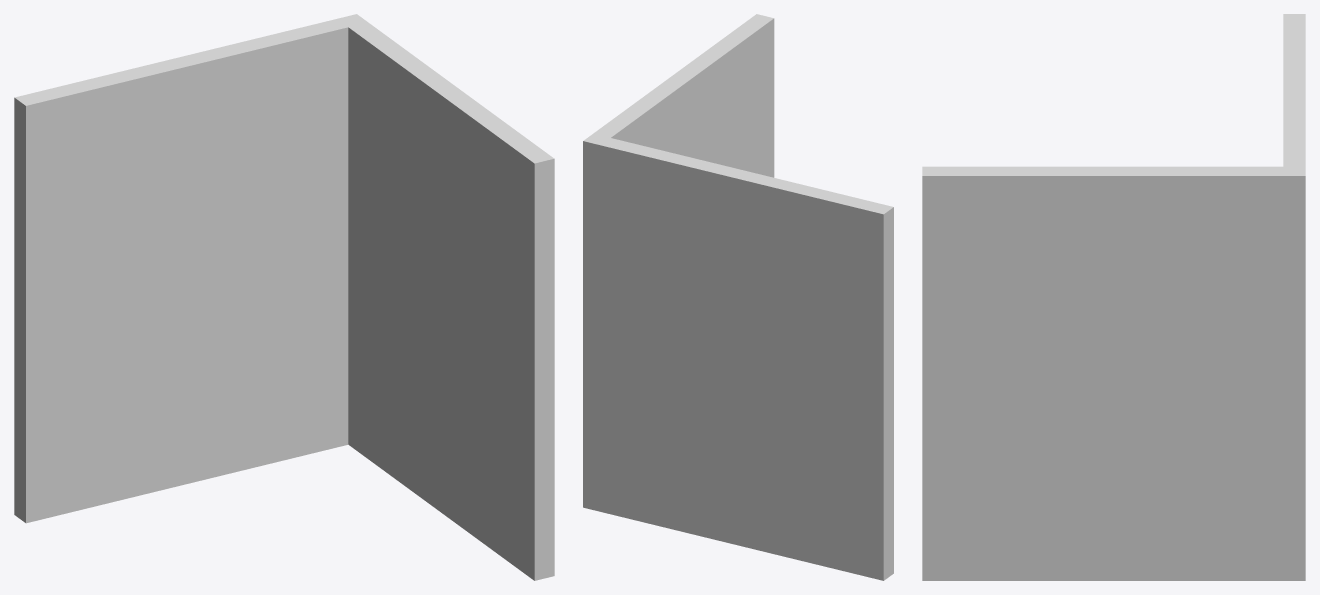
File: Wall1_C1_06.fbx
3 renders of one model, left to right at view 1: azimuth 30°, elevation 25°; view 2: azimuth 150°, elevation 25°; view 3: azimuth 270°, elevation 25°, orthographic. The views are drawn at different scales.
Visible parts, largest first — view 1: Wall1_C1_06; view 2: Wall1_C1_06; view 3: Wall1_C1_06.
Part boxes in pixels (x1,y1,x2,y2): Wall1_C1_06: (14,14,554,580); Wall1_C1_06: (583,14,893,580); Wall1_C1_06: (922,14,1305,580).
Bounding box in the file's own units: 258 × 300 × 258.
